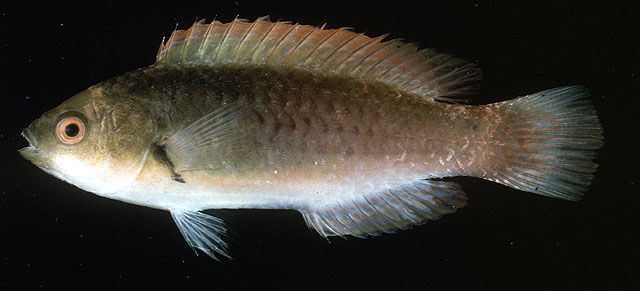fish: (19, 15, 604, 265)
